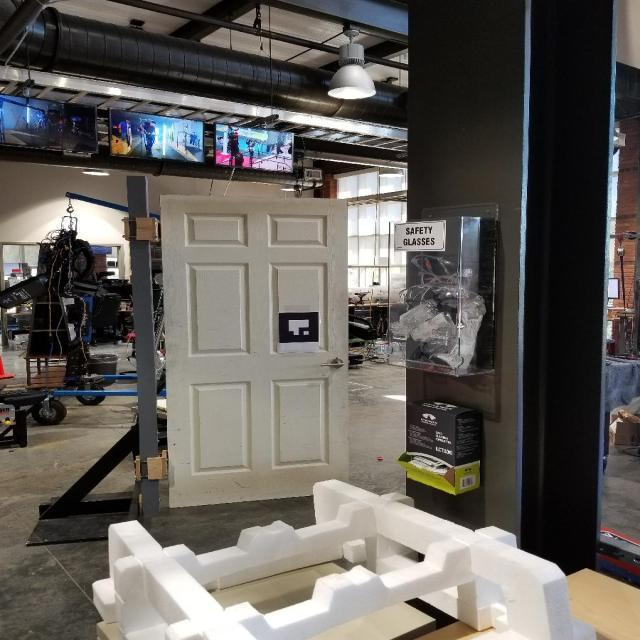door: (156, 190, 354, 510), (320, 356, 348, 371)
